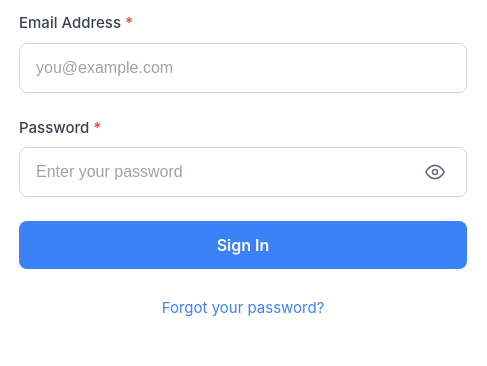
Test: LoginForm › Email Validation › should validate email on change after field is touched
The width and height of the screenshot is (487, 366).
// Touch field by blurring
Click the field labelled "Email Address*" at {"x": 243, "y": 68}, box [19,42,467,92]
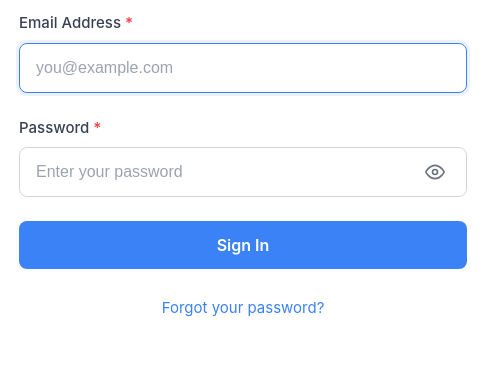
Press Tab
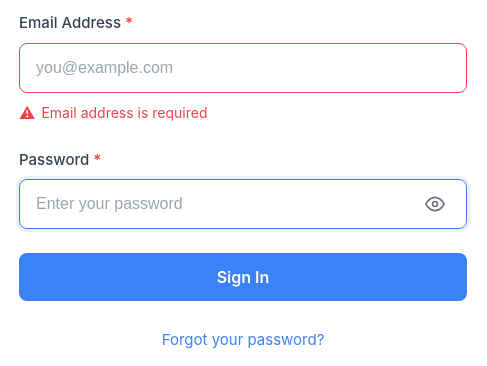
Expected: the text "Email address is required" is shown, [41,104,208,121]
// Type valid email - error should clear immediately
Type "test@example.com" into the field labelled "Email Address*" at {"x": 243, "y": 68}, box [19,42,467,92]
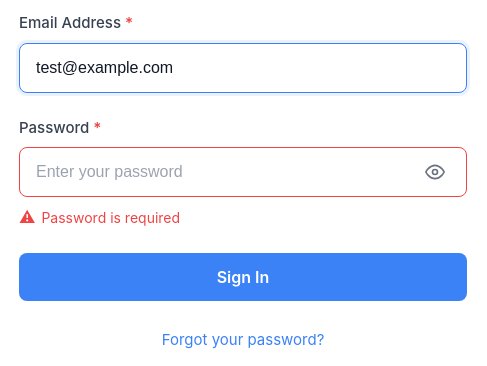
Expected: the text "Email address is required" is gone
